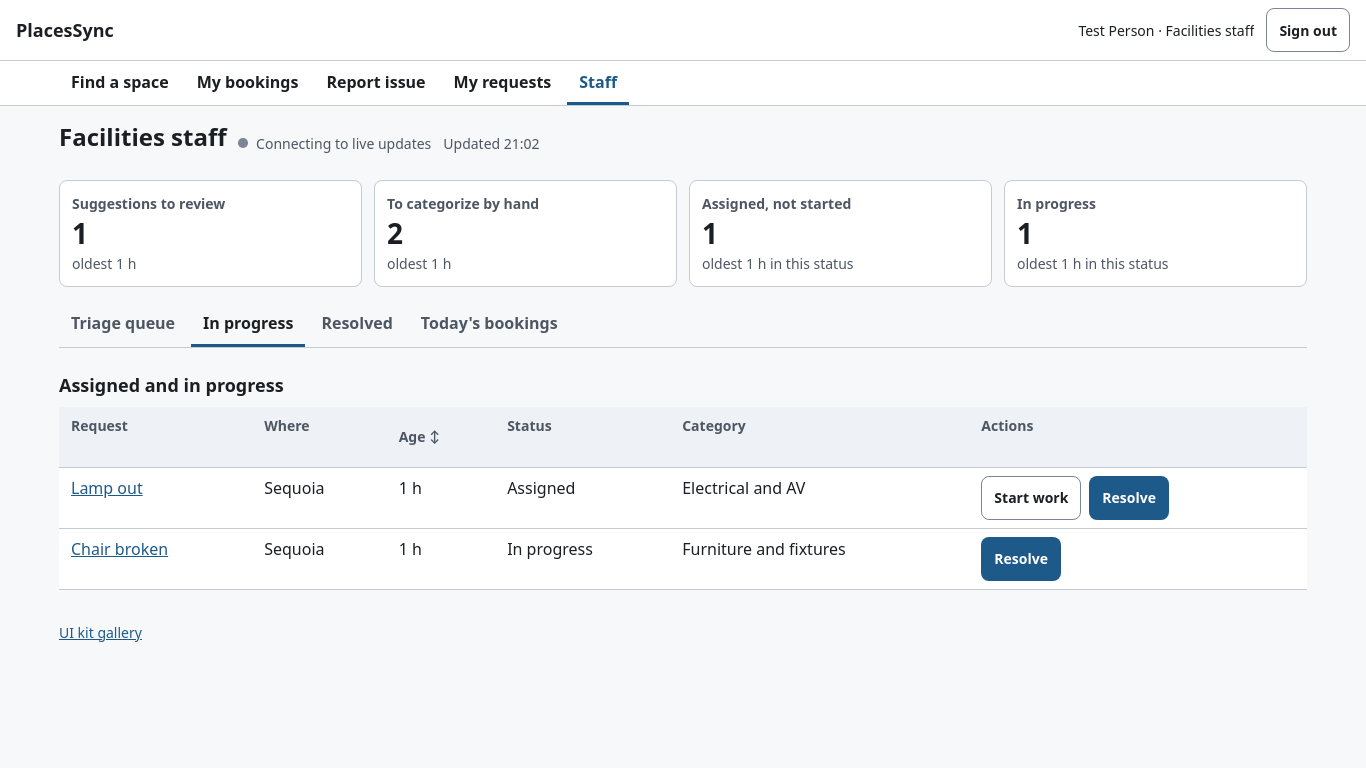
Test: Resolving and save errors (UX-09) › a 409 on Resolve says the request changed meanwhile
Expected: the link "Chair broken" is shown, [71,538,168,560]
Click the button named "Resolve Chair broken": {"x": 1021, "y": 559} [981,537,1061,581]
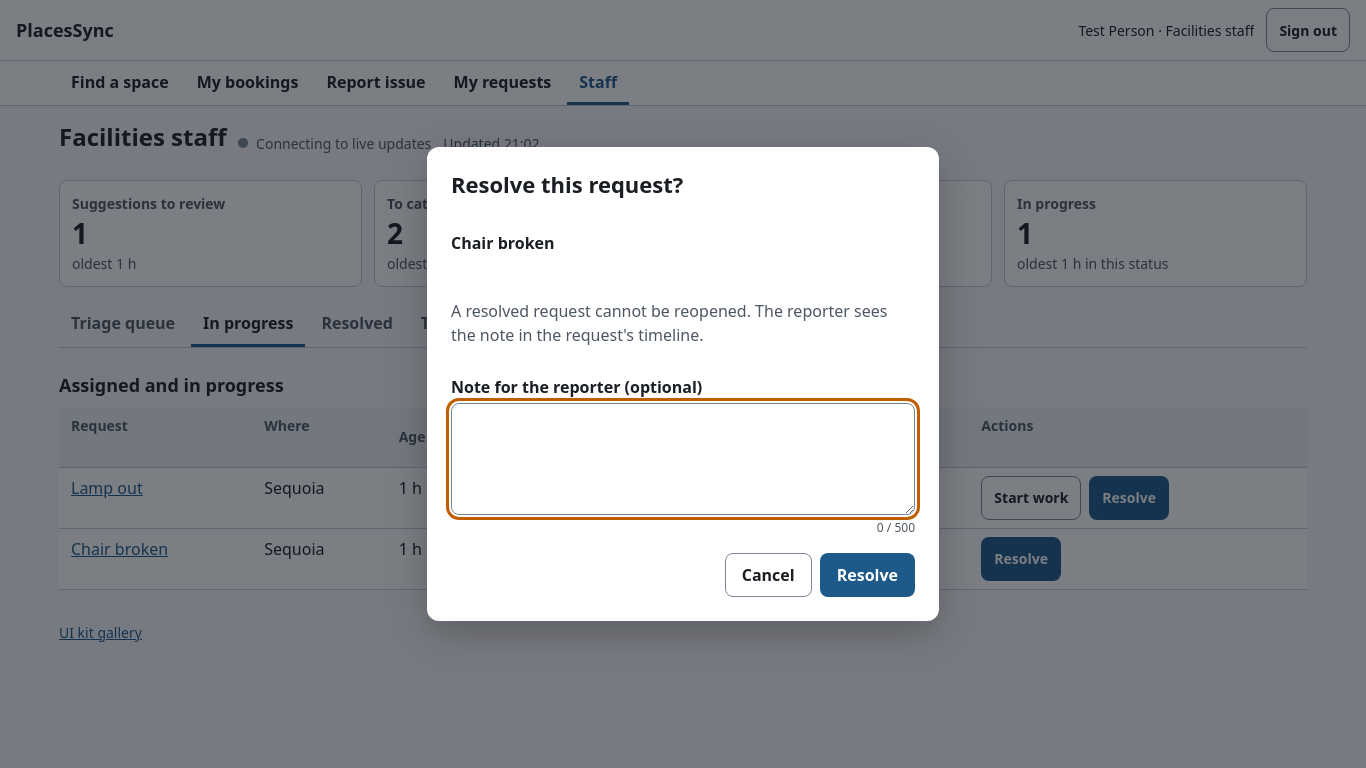
Click the button "Resolve": {"x": 867, "y": 575} [820,553,915,597]
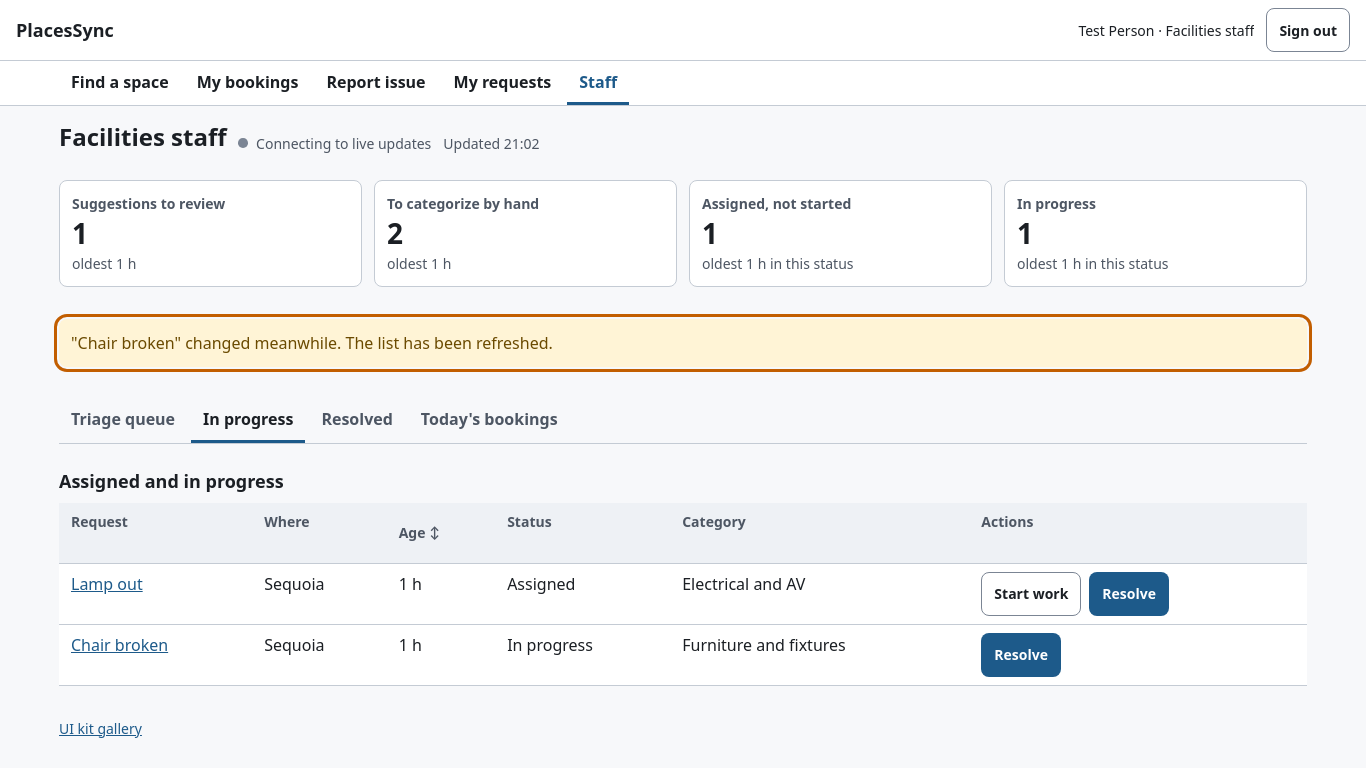
Expected: the dialog is gone
